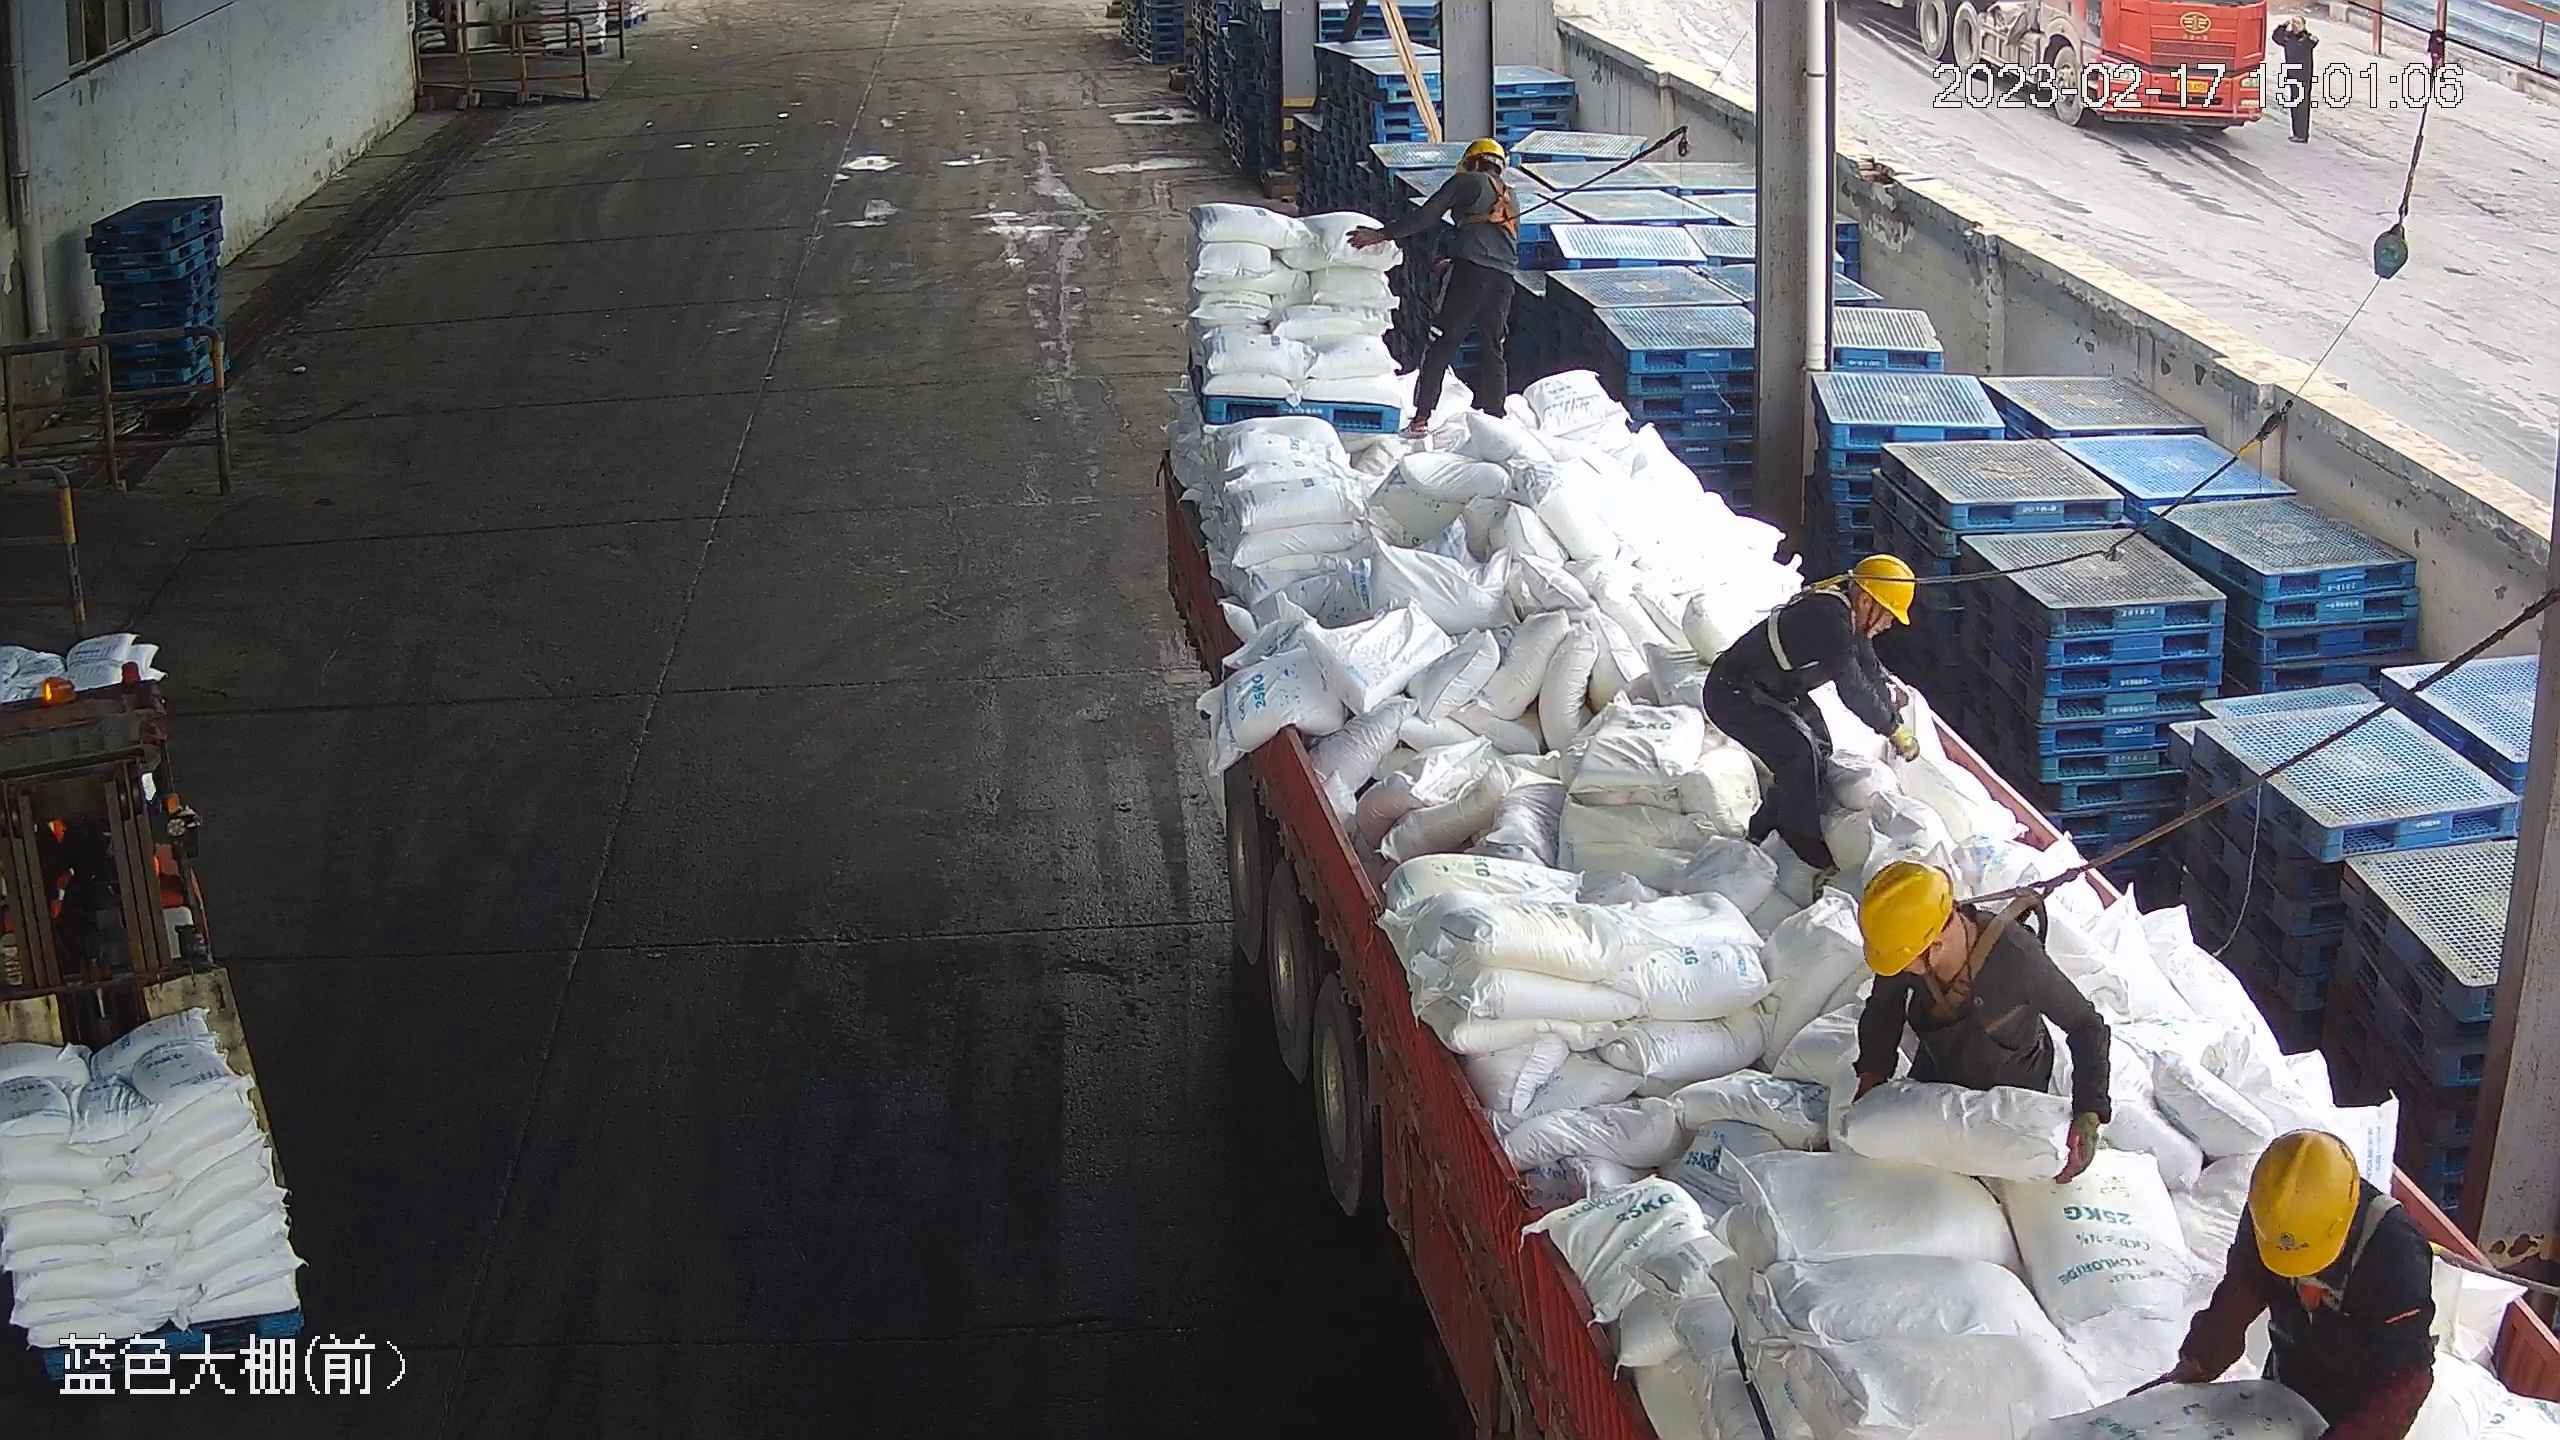belt: (2287, 1183, 2446, 1325), (1925, 870, 2053, 1024), (1761, 574, 1863, 670), (1453, 163, 1527, 230)
head: (2220, 1123, 2432, 1337), (1862, 856, 2048, 1014), (1779, 548, 1917, 665)
helmet: (2246, 1126, 2364, 1279), (1855, 857, 1957, 976), (1847, 549, 1917, 625), (1460, 135, 1507, 169)
people: (2169, 1124, 2447, 1440), (1699, 547, 1929, 893), (1383, 123, 1533, 441)
truck: (1126, 194, 2547, 1436)
